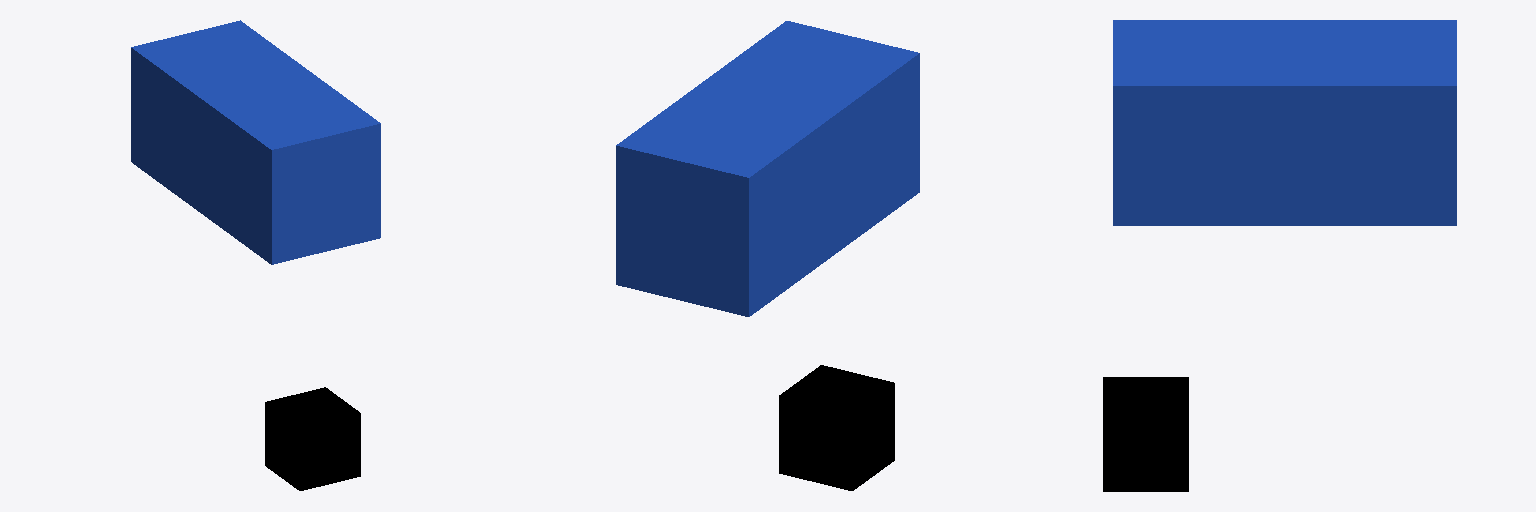
URDF robot description (ur5_robotiq_85):
<?xml version="1.0" ?>
<!-- =================================================================================== -->
<!-- |    This document was autogenerated by xacro from sisbot.xacro                   | -->
<!-- |    EDITING THIS FILE BY HAND IS NOT RECOMMENDED                                 | -->
<!-- =================================================================================== -->


<robot name="ur5_robotiq_85" xmlns:xacro="http://ros.org/wiki/xacro">
  <!--################################################
  ########              arm                    #######
  ####################################################-->

  <link name="base_link">
    <visual>
      <geometry>
        <mesh filename="../meshes/ur5/visual/base.obj"/>
      </geometry>
      <material name="LightGrey">
        <color rgba="0.7 0.7 0.7 1.0"/>
      </material>
    </visual>
    <collision>
      <geometry>
        <mesh filename="../meshes/ur5/collision/base.stl"/>
      </geometry>
    </collision>
    <inertial>
      <mass value="4.0"/>
      <origin rpy="0 0 0" xyz="0.0 0.0 0.0"/>
      <inertia ixx="0.00443333156" ixy="0.0" ixz="0.0" iyy="0.00443333156" iyz="0.0" izz="0.0072"/>
    </inertial>
  </link>

  <joint name="shoulder_pan_joint" type="revolute">
    <parent link="base_link"/>
    <child link="shoulder_link"/>
    <origin rpy="0.0 0.0 0.0" xyz="0.0 0.0 0.089159"/>
    <axis xyz="0 0 1"/>
    <limit effort="150.0" lower="-3.14159265359" upper="3.14159265359" velocity="3.15"/>
    <dynamics damping="0.0" friction="0.0"/>
  </joint>
  <link name="shoulder_link">
    <visual>
      <geometry>
        <mesh filename="../meshes/ur5/visual/shoulder.obj"/>
      </geometry>
      <material name="UR-Blue">
        <color rgba="0.376 0.576 0.674 1.0"/>
      </material>
    </visual>
    <collision>
      <geometry>
        <mesh filename="../meshes/ur5/collision/shoulder.stl"/>
      </geometry>
    </collision>
    <inertial>
      <mass value="3.7"/>
      <origin rpy="0 0 0" xyz="0.0 0.0 0.0"/>
      <inertia ixx="0.010267495893" ixy="0.0" ixz="0.0" iyy="0.010267495893" iyz="0.0" izz="0.00666"/>
    </inertial>
  </link>
  <joint name="shoulder_lift_joint" type="revolute">
    <parent link="shoulder_link"/>
    <child link="upper_arm_link"/>
    <origin rpy="0.0 1.57079632679 0.0" xyz="0.0 0.13585 0.0"/>
    <axis xyz="0 1 0"/>
    <limit effort="150.0" lower="-3.14159265359" upper="3.14159265359" velocity="3.15"/>
    <dynamics damping="0.0" friction="0.0"/>
  </joint>
  <link name="upper_arm_link">
    <visual>
      <geometry>
        <mesh filename="../meshes/ur5/visual/upperarm.obj"/>
      </geometry>
      <material name="LightGrey">
        <color rgba="0.7 0.7 0.7 1.0"/>
      </material>
    </visual>
    <collision>
      <geometry>
        <mesh filename="../meshes/ur5/collision/upperarm.stl"/>
      </geometry>
    </collision>
    <inertial>
      <mass value="8.393"/>
      <origin rpy="0 0 0" xyz="0.0 0.0 0.28"/>
      <inertia ixx="0.22689067591" ixy="0.0" ixz="0.0" iyy="0.22689067591" iyz="0.0" izz="0.0151074"/>
    </inertial>
  </link>
  <joint name="elbow_joint" type="revolute">
    <parent link="upper_arm_link"/>
    <child link="forearm_link"/>
    <origin rpy="0.0 0.0 0.0" xyz="0.0 -0.1197 0.425"/>
    <axis xyz="0 1 0"/>
    <limit effort="150.0" lower="-3.14159265359" upper="3.14159265359" velocity="3.15"/>
    <dynamics damping="0.0" friction="0.0"/>
  </joint>
  <link name="forearm_link">
    <visual>
      <geometry>
        <mesh filename="../meshes/ur5/visual/forearm.obj"/>
      </geometry>
      <material name="LightGrey">
        <color rgba="0.7 0.7 0.7 1.0"/>
      </material>
    </visual>
    <collision>
      <geometry>
        <mesh filename="../meshes/ur5/collision/forearm.stl"/>
      </geometry>
    </collision>
    <inertial>
      <mass value="2.275"/>
      <origin rpy="0 0 0" xyz="0.0 0.0 0.25"/>
      <inertia ixx="0.049443313556" ixy="0.0" ixz="0.0" iyy="0.049443313556" iyz="0.0" izz="0.004095"/>
    </inertial>
  </link>
  <joint name="wrist_1_joint" type="revolute">
    <parent link="forearm_link"/>
    <child link="wrist_1_link"/>
    <origin rpy="0.0 1.57079632679 0.0" xyz="0.0 0.0 0.39225"/>
    <axis xyz="0 1 0"/>
    <limit effort="28.0" lower="-3.14159265359" upper="3.14159265359" velocity="3.2"/>
    <dynamics damping="0.0" friction="0.0"/>
  </joint>
  <link name="wrist_1_link">
    <visual>
      <geometry>
        <mesh filename="../meshes/ur5/visual/wrist1.obj"/>
      </geometry>
      <material name="UR-Blue">
        <color rgba="0.376 0.576 0.674 1.0"/>
      </material>
    </visual>
    <collision>
      <geometry>
        <mesh filename="../meshes/ur5/collision/wrist1.stl"/>
      </geometry>
    </collision>
    <inertial>
      <mass value="1.219"/>
      <origin rpy="0 0 0" xyz="0.0 0.0 0.0"/>
      <inertia ixx="0.111172755531" ixy="0.0" ixz="0.0" iyy="0.111172755531" iyz="0.0" izz="0.21942"/>
    </inertial>
  </link>
  <joint name="wrist_2_joint" type="revolute">
    <parent link="wrist_1_link"/>
    <child link="wrist_2_link"/>
    <origin rpy="0.0 0.0 0.0" xyz="0.0 0.093 0.0"/>
    <axis xyz="0 0 1"/>
    <limit effort="28.0" lower="-3.14159265359" upper="3.14159265359" velocity="3.2"/>
    <dynamics damping="0.0" friction="0.0"/>
  </joint>
  <link name="wrist_2_link">
    <visual>
      <geometry>
        <mesh filename="../meshes/ur5/visual/wrist2.obj"/>
      </geometry>
      <material name="DarkGray">
        <color rgba="0.5 0.5 0.5 1.0"/>
      </material>
    </visual>
    <collision>
      <geometry>
        <mesh filename="../meshes/ur5/collision/wrist2.stl"/>
      </geometry>
    </collision>
    <inertial>
      <mass value="1.219"/>
      <origin rpy="0 0 0" xyz="0.0 0.0 0.0"/>
      <inertia ixx="0.111172755531" ixy="0.0" ixz="0.0" iyy="0.111172755531" iyz="0.0" izz="0.21942"/>
    </inertial>
  </link>
  <joint name="wrist_3_joint" type="revolute">
    <parent link="wrist_2_link"/>
    <child link="wrist_3_link"/>
    <origin rpy="0.0 0.0 0.0" xyz="0.0 0.0 0.09465"/>
    <axis xyz="0 1 0"/>
    <limit effort="28.0" lower="-3.14159265359" upper="3.14159265359" velocity="3.2"/>
    <dynamics damping="0.0" friction="0.0"/>
  </joint>
  <link name="wrist_3_link">
    <visual>
      <geometry>
        <mesh filename="../meshes/ur5/visual/wrist3.obj"/>
      </geometry>
      <material name="LightGrey">
        <color rgba="0.7 0.7 0.7 1.0"/>
      </material>
    </visual>
    <collision>
      <geometry>
        <mesh filename="../meshes/ur5/collision/wrist3.stl"/>
      </geometry>
    </collision>
    <inertial>
      <mass value="0.1879"/>
      <origin rpy="0 0 0" xyz="0.0 0.0 0.0"/>
      <inertia ixx="0.0171364731454" ixy="0.0" ixz="0.0" iyy="0.0171364731454" iyz="0.0" izz="0.033822"/>
    </inertial>
  </link>
  <joint name="ee_fixed_joint" type="fixed">
    <parent link="wrist_3_link"/>
    <child link="ee_link"/>
    <origin rpy="0.0 0.0 1.57079632679" xyz="0.0 0.0823 0.0"/>
  </joint>
  <link name="ee_link">
    <collision>
      <geometry>
        <box size="0.01 0.01 0.01"/>
      </geometry>
      <origin rpy="0 0 0" xyz="-0.01 0 0"/>
    </collision>
  </link>
  <!-- Square Peg Link -->
  <link name="square_link">
    <visual>
      <origin xyz="0 0 0" rpy="0 0 0"/>
      <geometry>
        <!-- Box dimensions: x=length(0.08), y=width(0.036), z=height(0.036) - this gives us 0.012 clearance given centered insertion which is the same clearance as in the circular peg -->
        <box size="0.036 0.036 0.08"/>
      </geometry>
      <material name="Blue">
        <color rgba="0.2 0.4 0.8 1.0"/>
      </material>
    </visual>
    <collision>
      <origin xyz="0 0 0" rpy="0 0 0"/>
      <geometry>
        <box size="0.036 0.036 0.08"/>
      </geometry>
    </collision>
    <inertial>
      <mass value="0.1"/>
      <origin xyz="0 0 0.1" rpy="0 0 0"/>
      <inertia ixx="0.0001" ixy="0" ixz="0" iyy="0.0001" iyz="0" izz="0.0001"/>
    </inertial>
  </link>
  <!-- camera -->
  <link name="camera_link">
    <visual>
      <origin xyz="0 0 0" rpy="0 0 0"/>
      <geometry>
        <box size="0.02 0.02 0.02"/>  
      </geometry>
      <material name="black">
        <color rgba="0 0 0 1"/>
      </material>
    </visual>
    <collision>
      <origin xyz="0 0 0" rpy="0 0 0"/>
      <geometry>
        <box size="0.02 0.02 0.02"/>
      </geometry>
    </collision>
    <inertial>
      <mass value="0.01"/>
      <origin xyz="0 0 0" rpy="0 0 0"/>
      <inertia ixx="1e-5" ixy="0" ixz="0" iyy="1e-5" iyz="0" izz="1e-5"/>
    </inertial>
  </link>

<!--  square connect ee_link joint -->
<joint name="ee_square_joint" type="fixed">
  <parent link="ee_link"/>
  <child link="square_link"/>
  <!-- Kept the same origin rotation as the cylinder -->
  <origin rpy="0 -1.57079632679 0" xyz="0 0 0"/>
</joint>
<!-- camera connect wrist_3_link joint -->
<joint name="camera_joint" type="fixed">
  <parent link="wrist_3_link"/>
  <child link="camera_link"/>
  <origin xyz="0 0.05 0.08" rpy="1.57079632679 1.57079632679 0"/>
</joint>


</robot>

--- Facts derived from the render (not from the file) ---
Views: 3 orthographic renders of the robot side by side, from view 1: azimuth 30°, elevation 25°; view 2: azimuth 150°, elevation 25°; view 3: azimuth 270°, elevation 25°.
Model ur5_robotiq_85 with 10 links and 9 joints (6 revolute, 3 fixed), rooted at base_link, posed every joint at zero.
Visible links, largest first — view 1: square_link, camera_link; view 2: square_link, camera_link; view 3: square_link, camera_link.
Link boxes in pixels (left/top/right/bottom): square_link: left=131, top=20, right=380, bottom=264; camera_link: left=265, top=387, right=360, bottom=490; square_link: left=616, top=21, right=919, bottom=316; camera_link: left=779, top=365, right=894, bottom=490; square_link: left=1113, top=20, right=1456, bottom=225; camera_link: left=1103, top=377, right=1188, bottom=491.
Size in the robot's own frame: 0.036 by 0.0823 by 0.108 metres.
Meshes: 7 distinct files referenced, 0 mesh visuals loaded (none loaded); not drawn: 7 (reference not matched to a file when rendering).